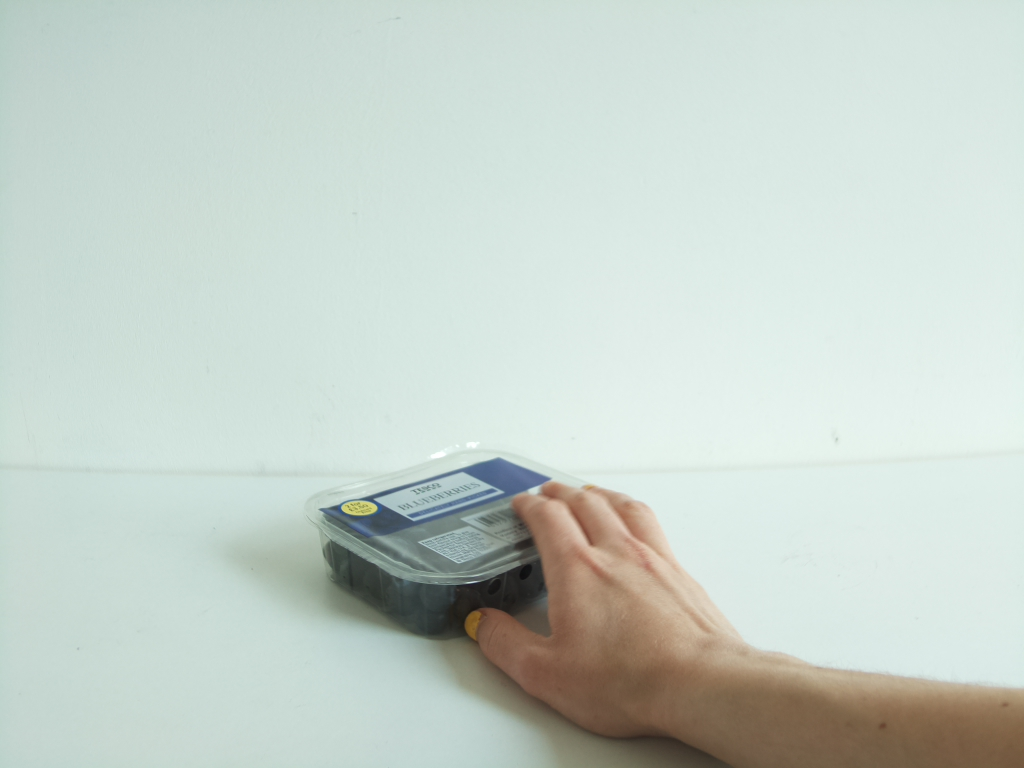soft-fruit: (310, 445, 612, 642)
